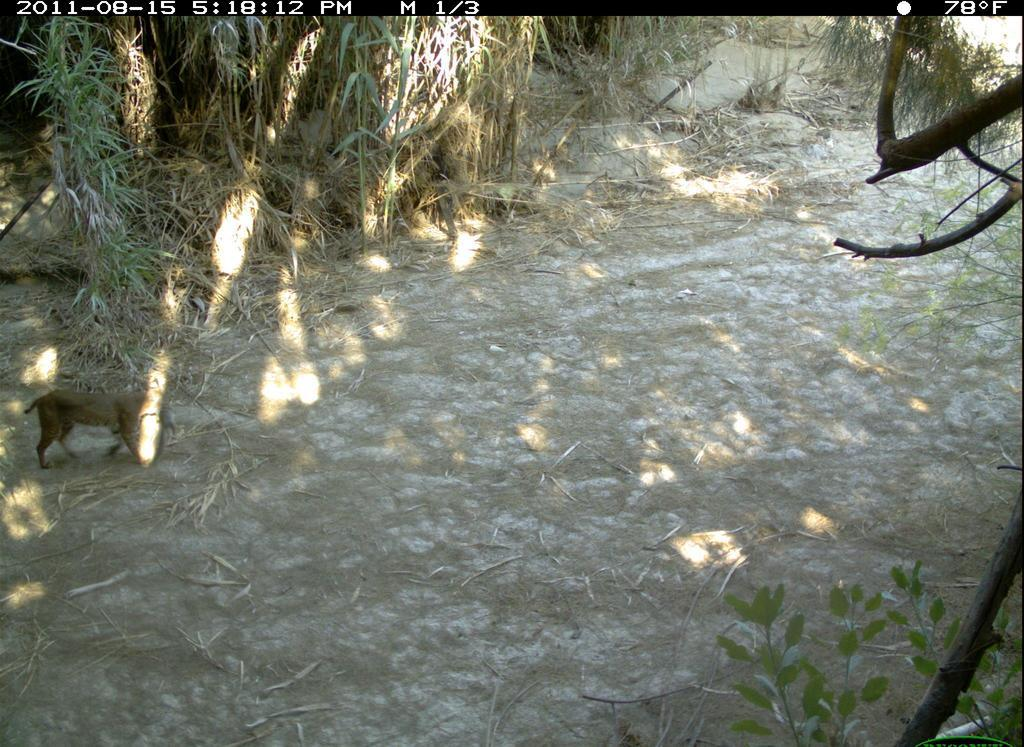bobcat: (26, 358, 185, 478)
